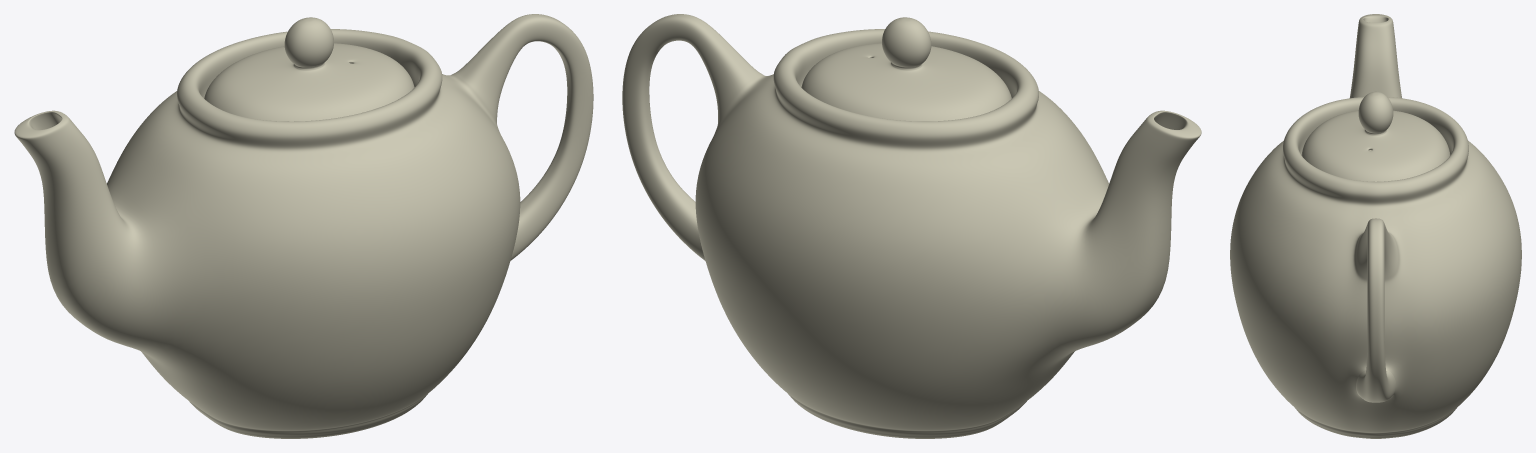
The model's file is teapot2.glb.
3 renders of one model, left to right at view 1: azimuth 30°, elevation 25°; view 2: azimuth 150°, elevation 25°; view 3: azimuth 270°, elevation 25°, orthographic. The views are drawn at different scales.
Parts seen in each view (by area): view 1: pot, lid; view 2: pot, lid; view 3: pot, lid.
Part boxes in pixels (<box>): pot: <box>14,14,593,438</box>; lid: <box>204,17,414,121</box>; pot: <box>622,14,1201,438</box>; lid: <box>801,17,1011,121</box>; pot: <box>1230,14,1521,438</box>; lid: <box>1301,91,1450,181</box>.
Size of the model in its own units: 4.71 by 2.93 by 2.56.
